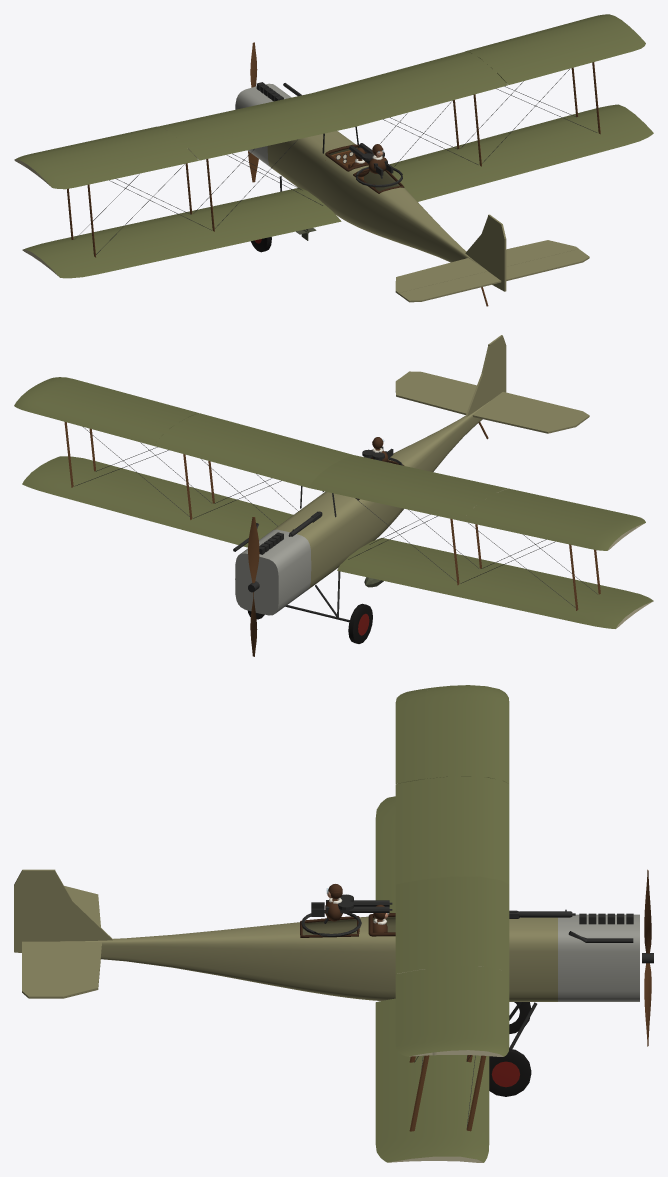
3 renders of one model, top to bottom at view 1: azimuth 30°, elevation 25°; view 2: azimuth 150°, elevation 25°; view 3: azimuth 270°, elevation 25°, orthographic. The views are drawn at different scales.
Parts seen in each view (by area): view 1: Wing_Lower_L, Wing_Upper_R, Wing_Upper_L, Wing_Lower_R, Fuselage, Elevator, Aileron_R, Aileron_L, Stabilizer_L, Struts, Wires, Rudder (+5 smaller); view 2: Wing_Upper_R, Wing_Upper_L, Wing_Lower_L, Fuselage, Wing_Lower_R, Elevator, Stabilizer_L, Stabilizer_R, Struts, Wires, Aileron_R, Aileron_L (+4 smaller); view 3: Fuselage, Wing_Upper_L, Wing_Upper_R, Wing_Lower_R, Rudder, Aileron_L, Aileron_R, Stabilizer_R, Wing_Lower_L, Wheels, Elevator, Fin (+6 smaller).
Part boxes in pixels (left/top/right/bottom): Wing_Lower_L: left=22, top=187, right=341, bottom=278; Wing_Upper_R: left=312, top=14, right=635, bottom=126; Wing_Upper_L: left=14, top=93, right=353, bottom=178; Wing_Lower_R: left=389, top=104, right=653, bottom=201; Fuselage: left=235, top=83, right=487, bottom=270; Elevator: left=398, top=249, right=589, bottom=302; Aileron_R: left=497, top=33, right=645, bottom=84; Aileron_L: left=42, top=148, right=198, bottom=189; Stabilizer_L: left=395, top=258, right=487, bottom=294; Struts: left=67, top=62, right=600, bottom=257; Wires: left=74, top=69, right=597, bottom=254; Rudder: left=488, top=214, right=506, bottom=291; Wing_Upper_R: left=14, top=381, right=353, bottom=487; Wing_Upper_L: left=309, top=455, right=635, bottom=550; Wing_Lower_L: left=337, top=538, right=653, bottom=628; Fuselage: left=235, top=401, right=489, bottom=615; Wing_Lower_R: left=22, top=456, right=293, bottom=547; Elevator: left=399, top=371, right=589, bottom=424; Stabilizer_L: left=472, top=401, right=579, bottom=433; Stabilizer_R: left=395, top=379, right=472, bottom=414; Struts: left=64, top=422, right=600, bottom=610; Wires: left=74, top=427, right=597, bottom=607; Aileron_R: left=43, top=377, right=198, bottom=417; Aileron_L: left=497, top=488, right=645, bottom=528; Fuselage: left=60, top=914, right=639, bottom=1001; Wing_Upper_L: left=395, top=685, right=509, bottom=884; Wing_Upper_R: left=395, top=876, right=509, bottom=1056; Wing_Lower_R: left=375, top=998, right=489, bottom=1162; Rudder: left=14, top=869, right=55, bottom=952; Aileron_L: left=395, top=687, right=431, bottom=783; Aileron_R: left=395, top=969, right=432, bottom=1056; Stabilizer_R: left=55, top=941, right=101, bottom=998; Wing_Lower_L: left=375, top=796, right=395, bottom=913; Wheels: left=489, top=1002, right=531, bottom=1096; Elevator: left=22, top=941, right=55, bottom=998; Fin: left=55, top=871, right=112, bottom=941.
Bounding box in the file's own units: 12.92 × 3.27 × 9.57.
